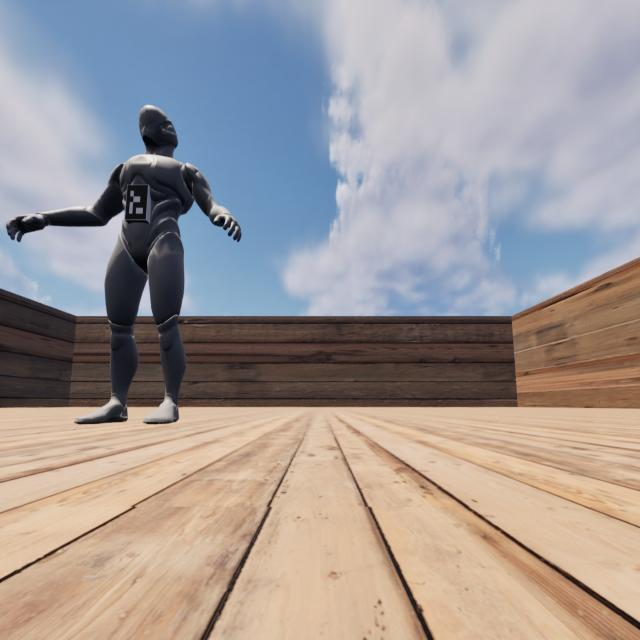aruco: (125, 185, 148, 220)
hip: (117, 232, 185, 255)
